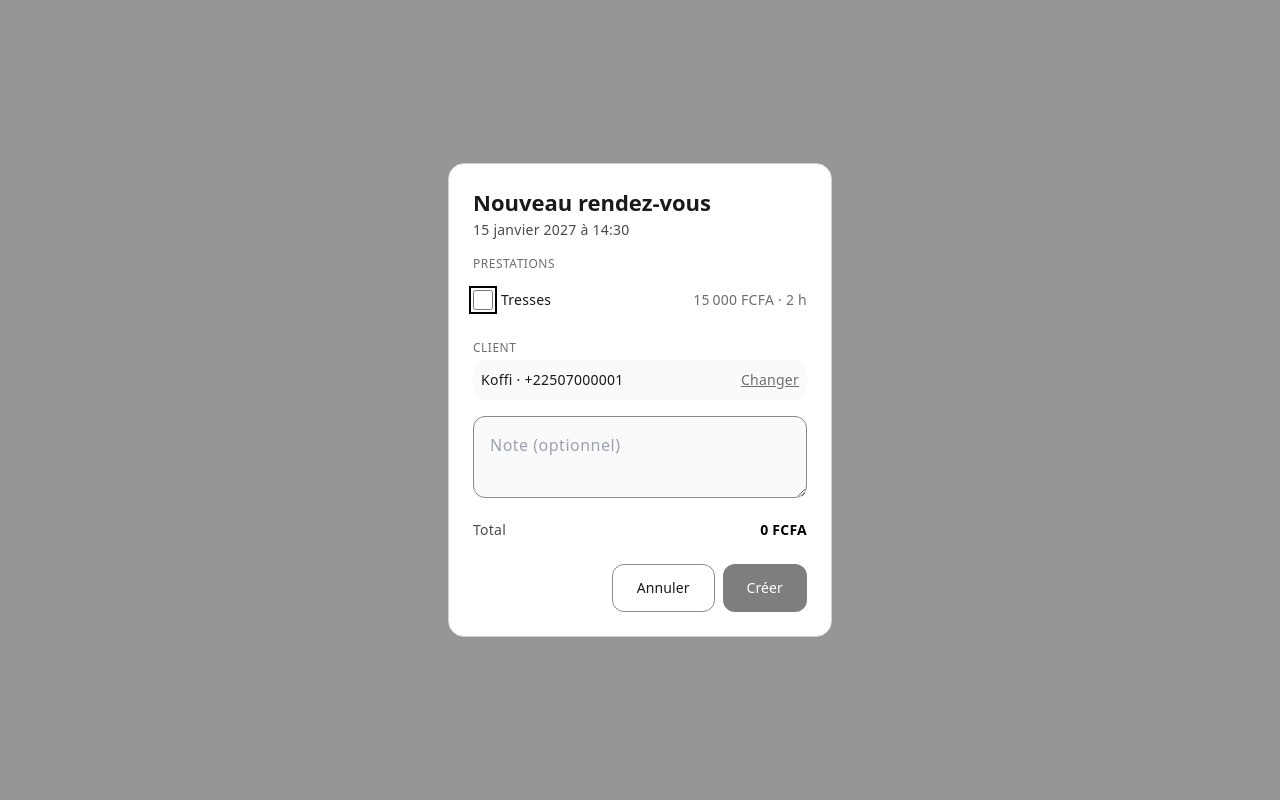
Test: ManualBookingDialog — a picked client whose stored number is refused › « Changer » drops the sentence with the client it was about
Click the checkbox labelled "Tresses 15 000 FCFA · 2 h" at (483, 300), box [473,290,493,310]
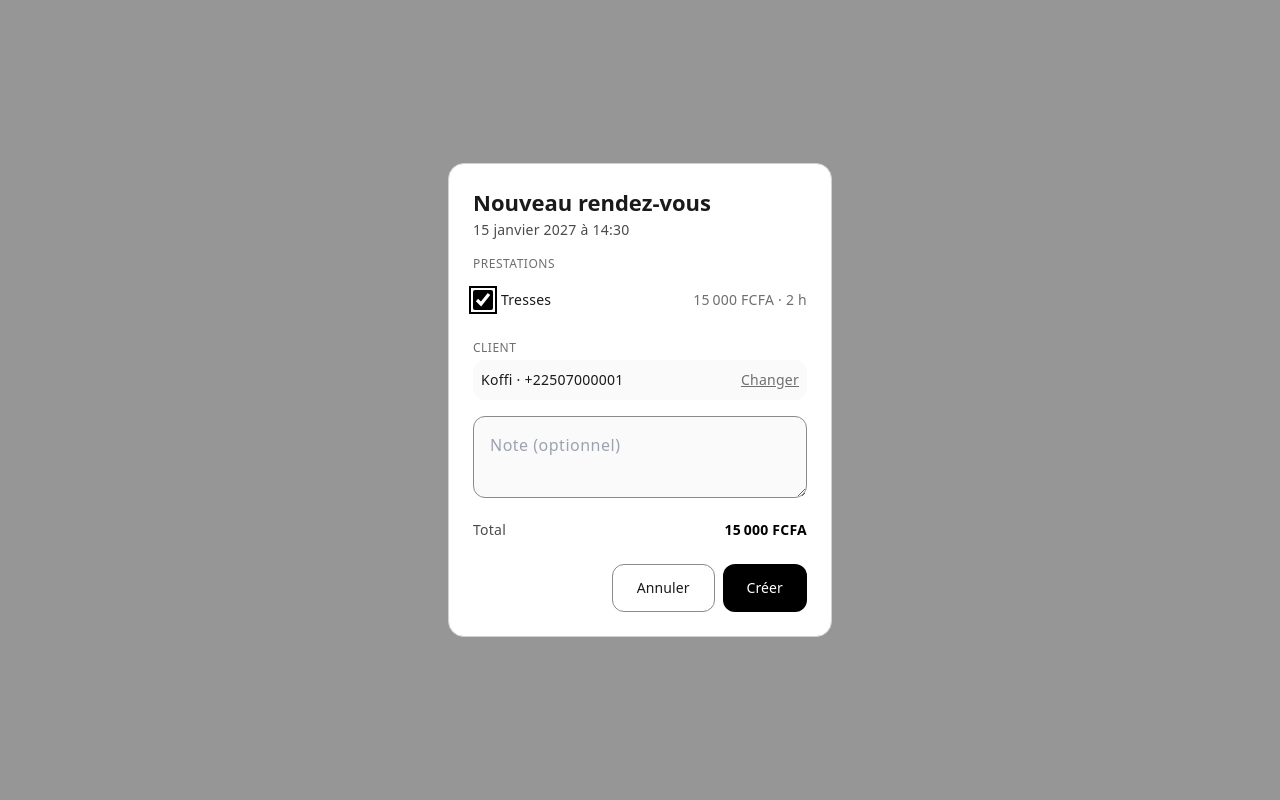
Click the button "Créer" at (765, 588), box [723,564,807,612]
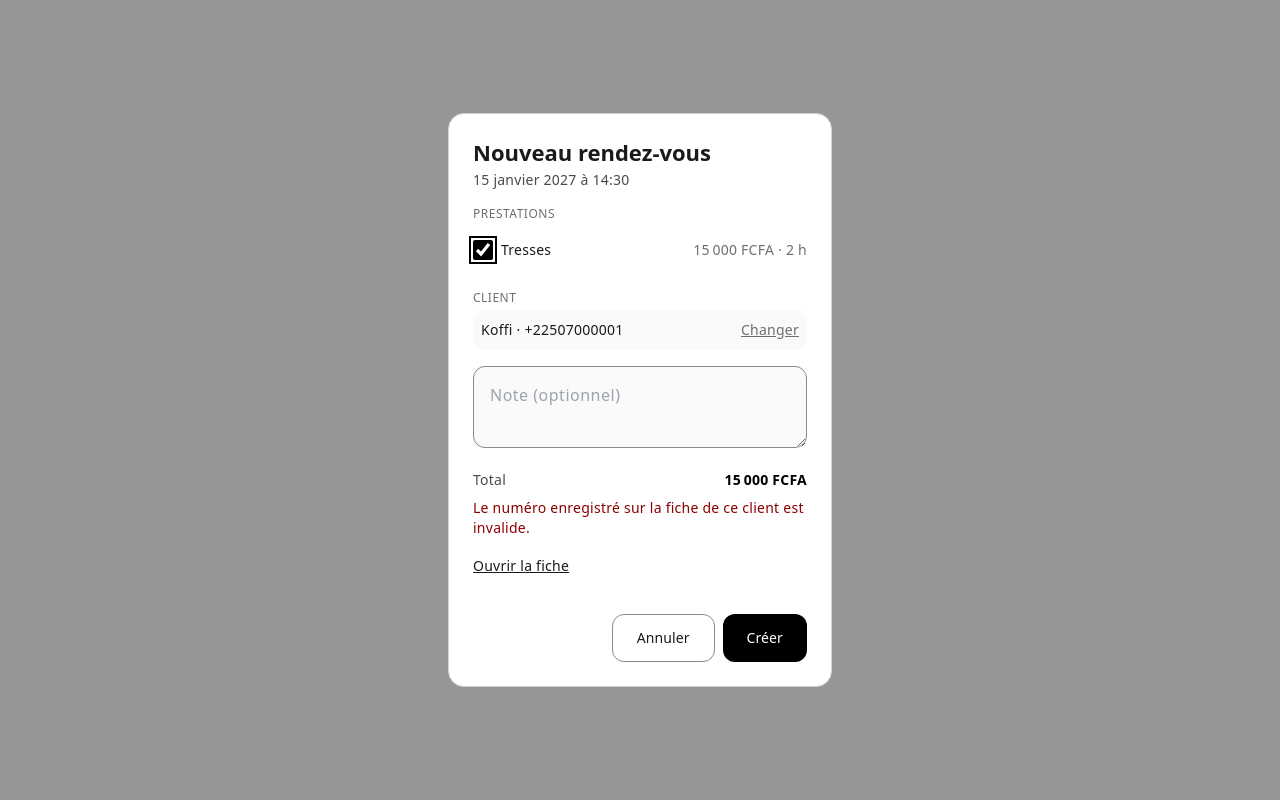
Expected: the text "Le numéro enregistré sur la fiche de ce client est invalide." is shown, [473,498,807,538]
Click the button "Changer" at (770, 330), box [741,306,799,354]
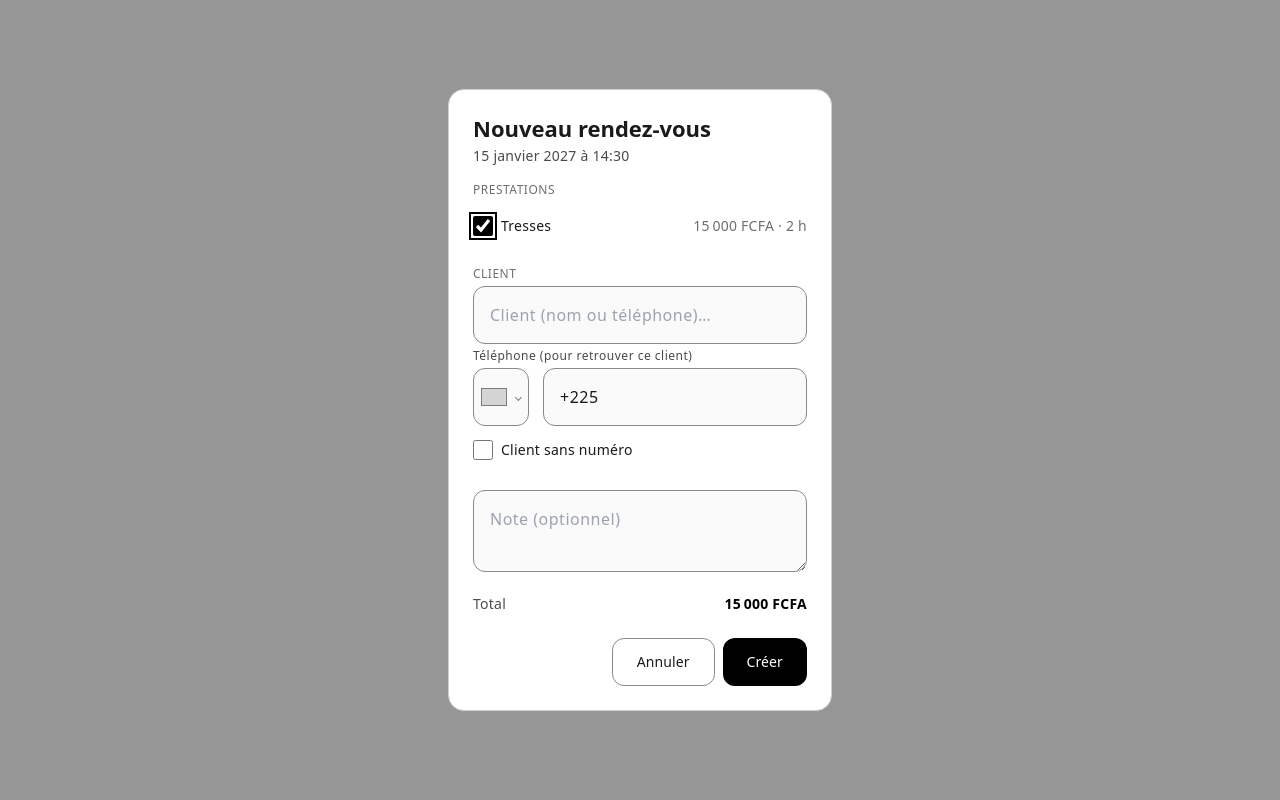
Expected: the text "Le numéro enregistré sur la fiche de ce client est invalide." is gone
Expected: the link "Ouvrir la fiche" is gone
